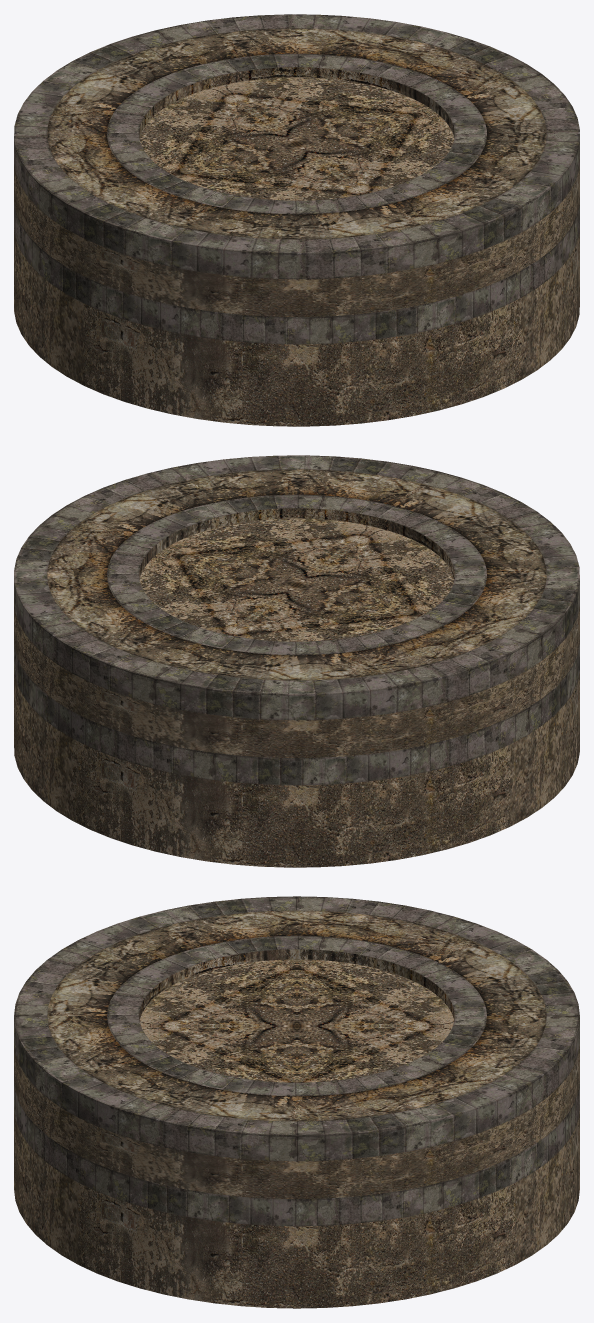
Rendered from materials_5_pillar_fat_22.fbx.
The picture shows the model from 3 angles, top to bottom: view 1: azimuth 30°, elevation 25°; view 2: azimuth 150°, elevation 25°; view 3: azimuth 270°, elevation 25°; orthographic projection.
Parts seen in each view (by area): view 1: materials_5_pillar_fat_22; view 2: materials_5_pillar_fat_22; view 3: materials_5_pillar_fat_22.
Part boxes in pixels (x1,y1,x2,y2): materials_5_pillar_fat_22: [14, 14, 579, 426]; materials_5_pillar_fat_22: [14, 455, 579, 867]; materials_5_pillar_fat_22: [14, 896, 579, 1308].
Size of the model in its own units: 135 by 45.41 by 135.
